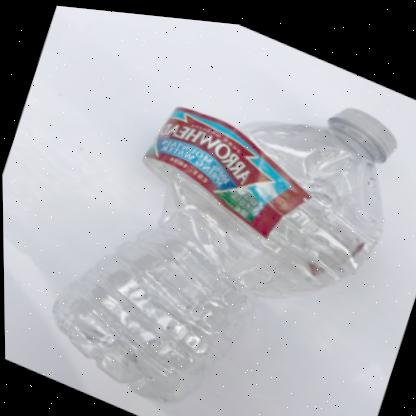Plastic: (52, 100, 397, 399)
